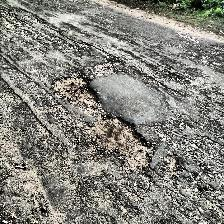pothole: (84, 114, 154, 169), (50, 72, 102, 108), (162, 155, 180, 173)
